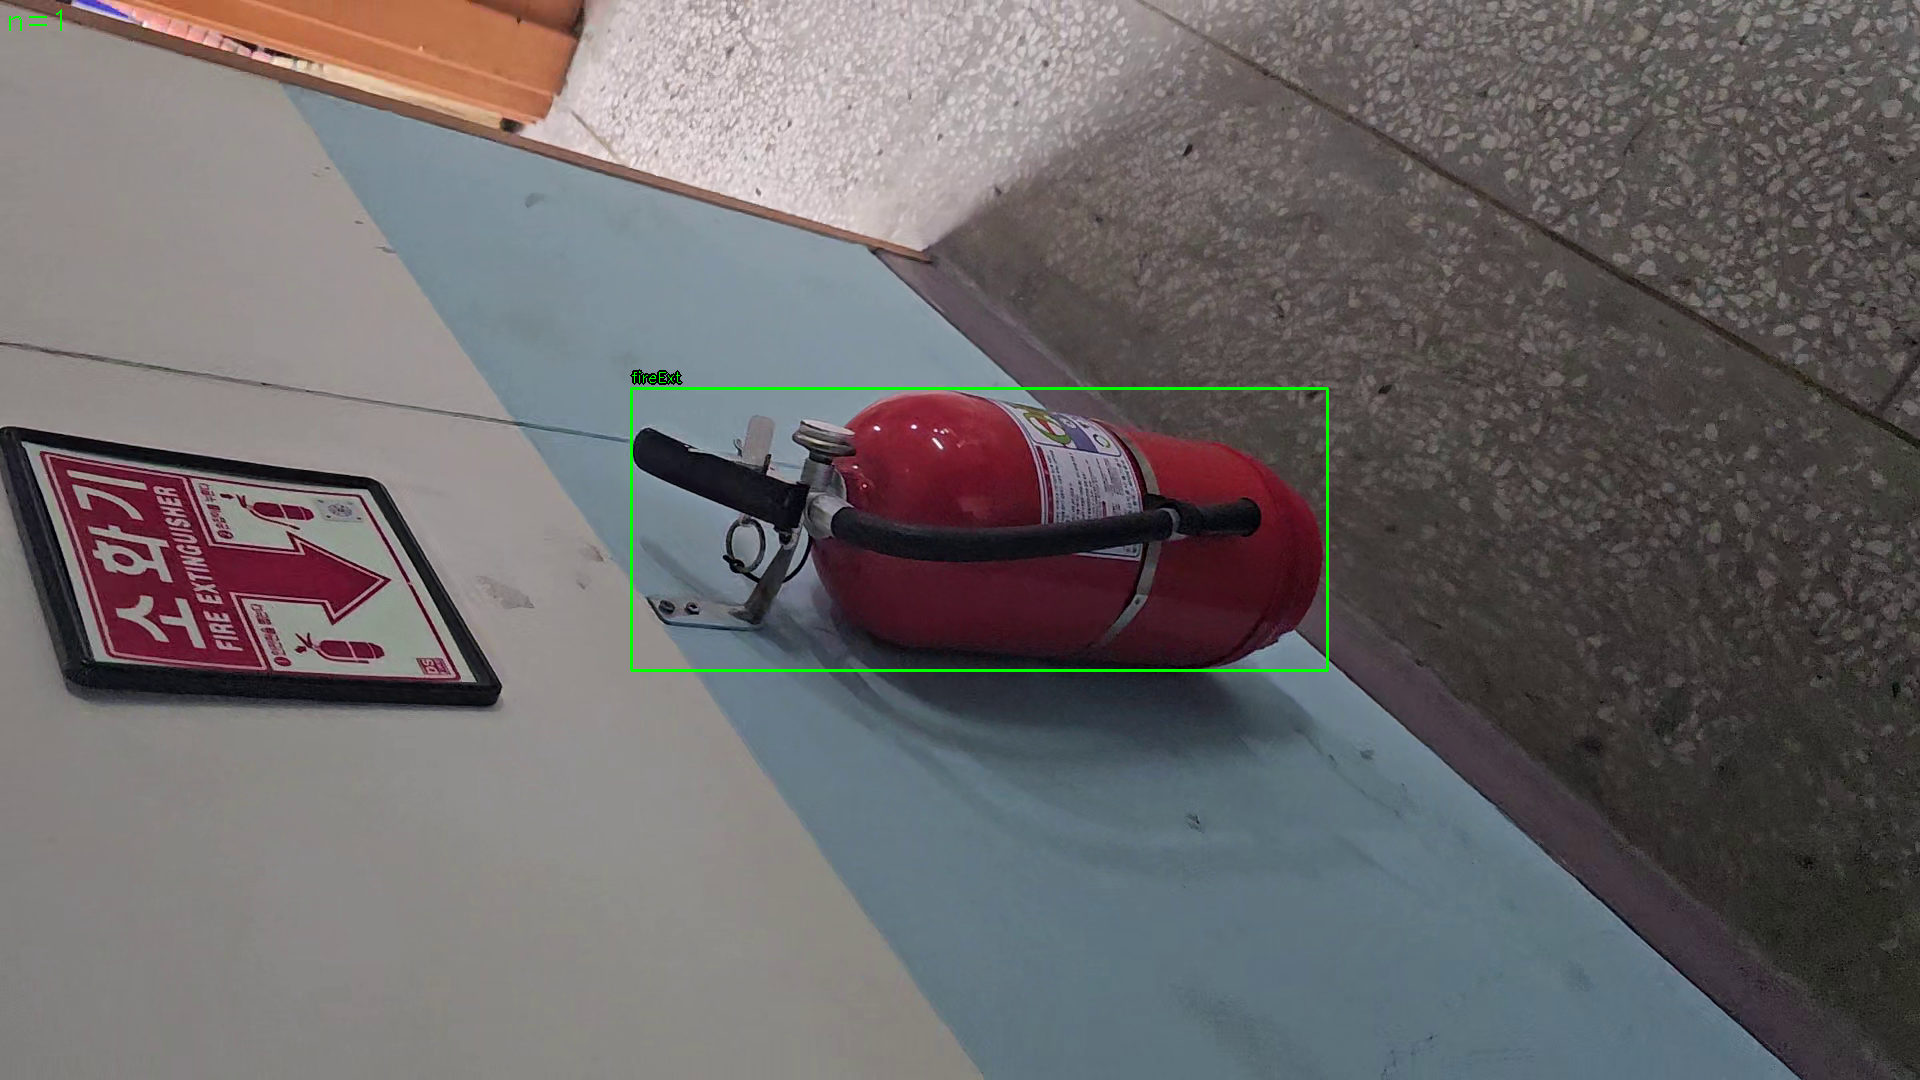lane: (632, 388, 1328, 671)
